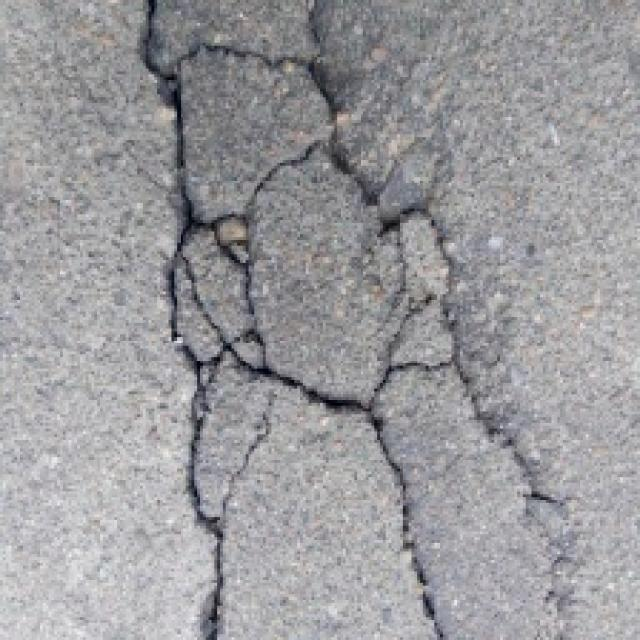crack: (108, 0, 598, 640)
